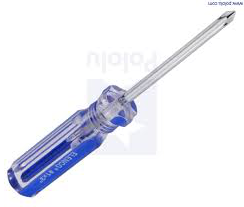Screwdriver: (7, 8, 241, 201)
